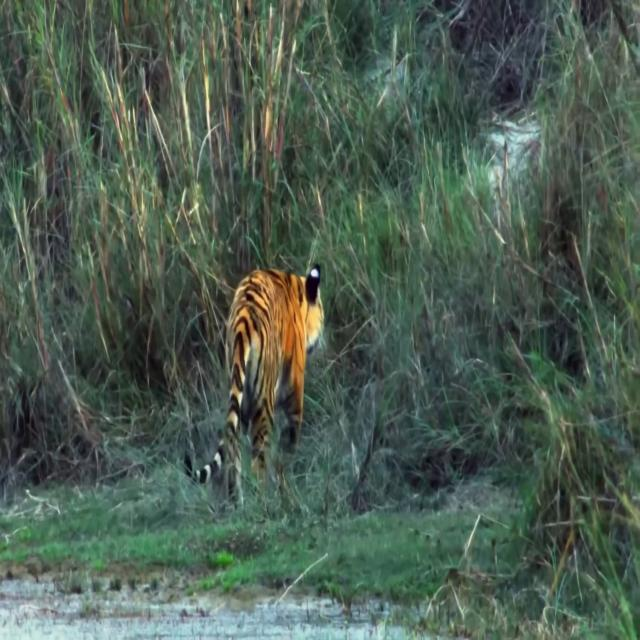tiger: (181, 264, 325, 506)
